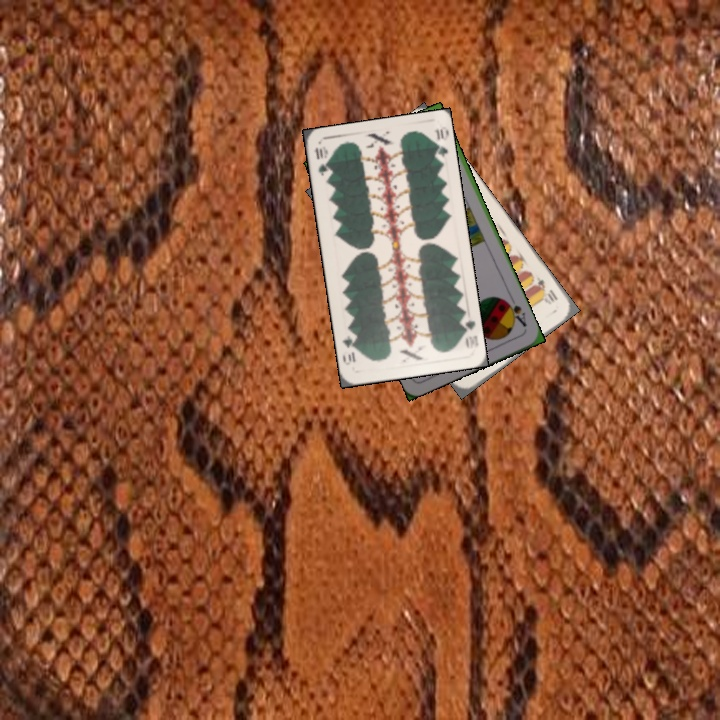E10: (531, 273, 561, 305)
G10: (457, 315, 480, 351), (311, 142, 332, 179)
SA: (501, 293, 529, 330)
